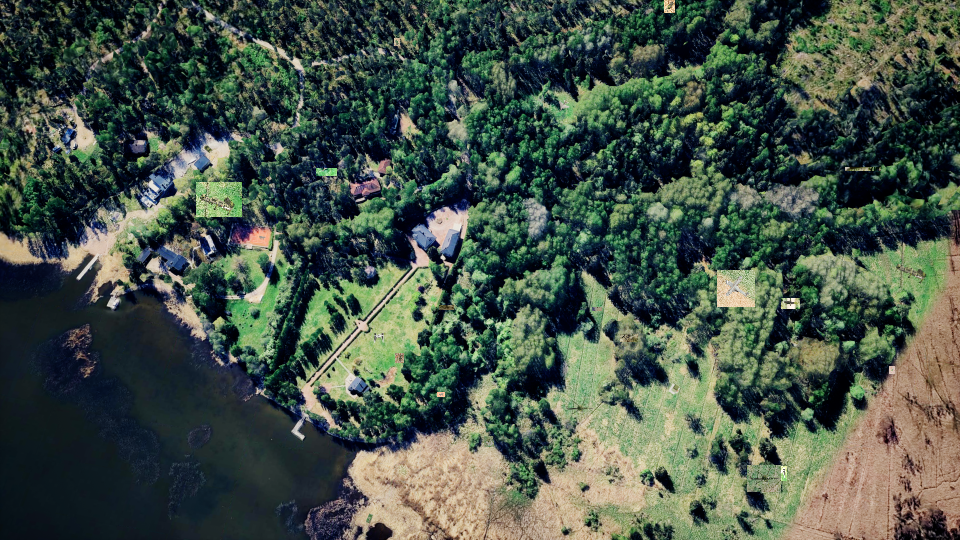condor: (717, 270, 755, 307)
hangar: (845, 167, 881, 171)
helicopter: (747, 465, 781, 492)
jammer: (394, 38, 400, 46)
jet_plane: (316, 168, 337, 176)
large_launcher: (196, 182, 242, 217)
large_tower: (620, 334, 638, 342)
medium_launcher: (439, 305, 454, 310)
medium_plane: (781, 298, 800, 309)
mine_roller: (664, 0, 675, 13)
small_launcher: (889, 366, 895, 374)
small_plane: (395, 353, 404, 363)
small_tower: (484, 436, 494, 447)
spacecraft: (774, 466, 787, 481)
ta-ta: (437, 392, 445, 397)
tank: (592, 307, 602, 311)
